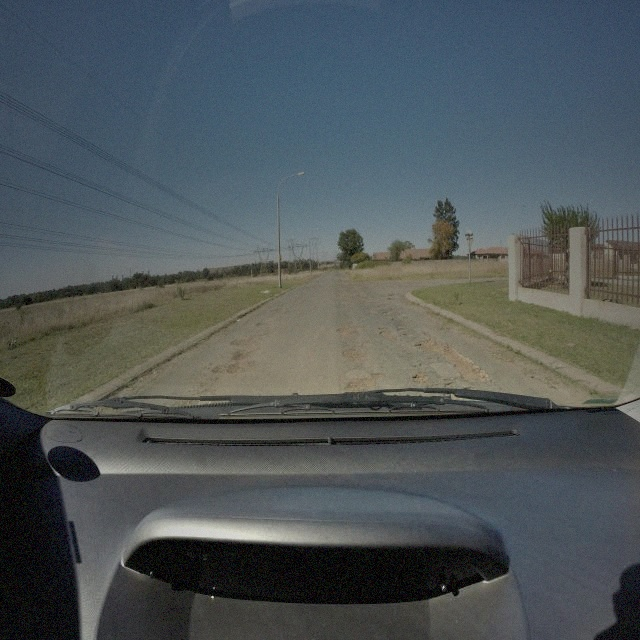pothole: (415, 327, 490, 388), (211, 356, 258, 378), (231, 331, 264, 347), (346, 376, 374, 394), (380, 326, 399, 344), (412, 371, 429, 386), (343, 349, 361, 363), (338, 326, 357, 338), (255, 317, 274, 329), (373, 371, 384, 381), (403, 332, 414, 338), (386, 296, 396, 302)
